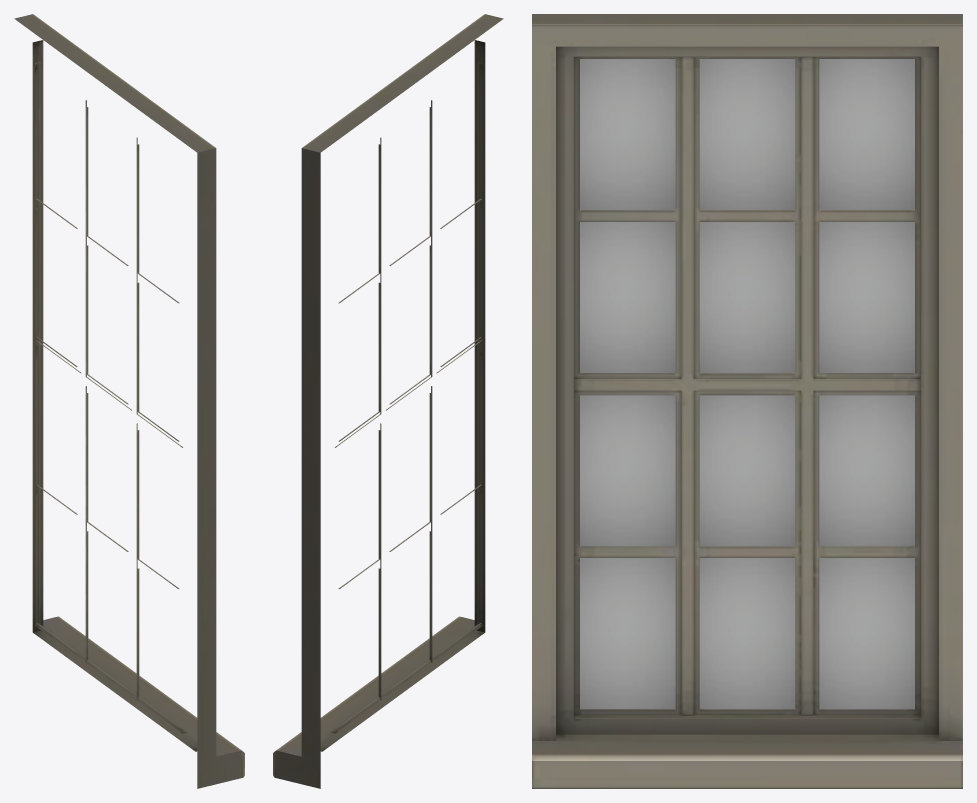
3 views of the same model, side by side, from view 1: azimuth 30°, elevation 25°; view 2: azimuth 150°, elevation 25°; view 3: azimuth 270°, elevation 25° (orthographic). The views are drawn at different scales.
Parts seen in each view (by area): view 1: body0_model0_lod0_mesh0; view 2: body0_model0_lod0_mesh0; view 3: body0_model0_lod0_mesh0.
Boxes of the visible parts, x1=… form: body0_model0_lod0_mesh0: x1=14, y1=14, x2=244, y2=788; body0_model0_lod0_mesh0: x1=273, y1=14, x2=503, y2=788; body0_model0_lod0_mesh0: x1=532, y1=14, x2=962, y2=788.
Size of the model in its own units: 8.12 by 103 by 54.01.
1 material, 1 textured.
